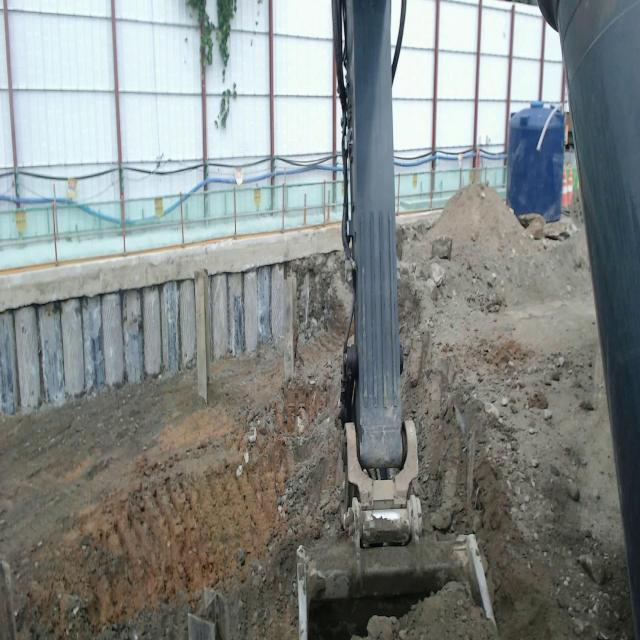white-sand: (0, 311, 346, 639), (398, 189, 633, 639), (367, 581, 499, 639)
